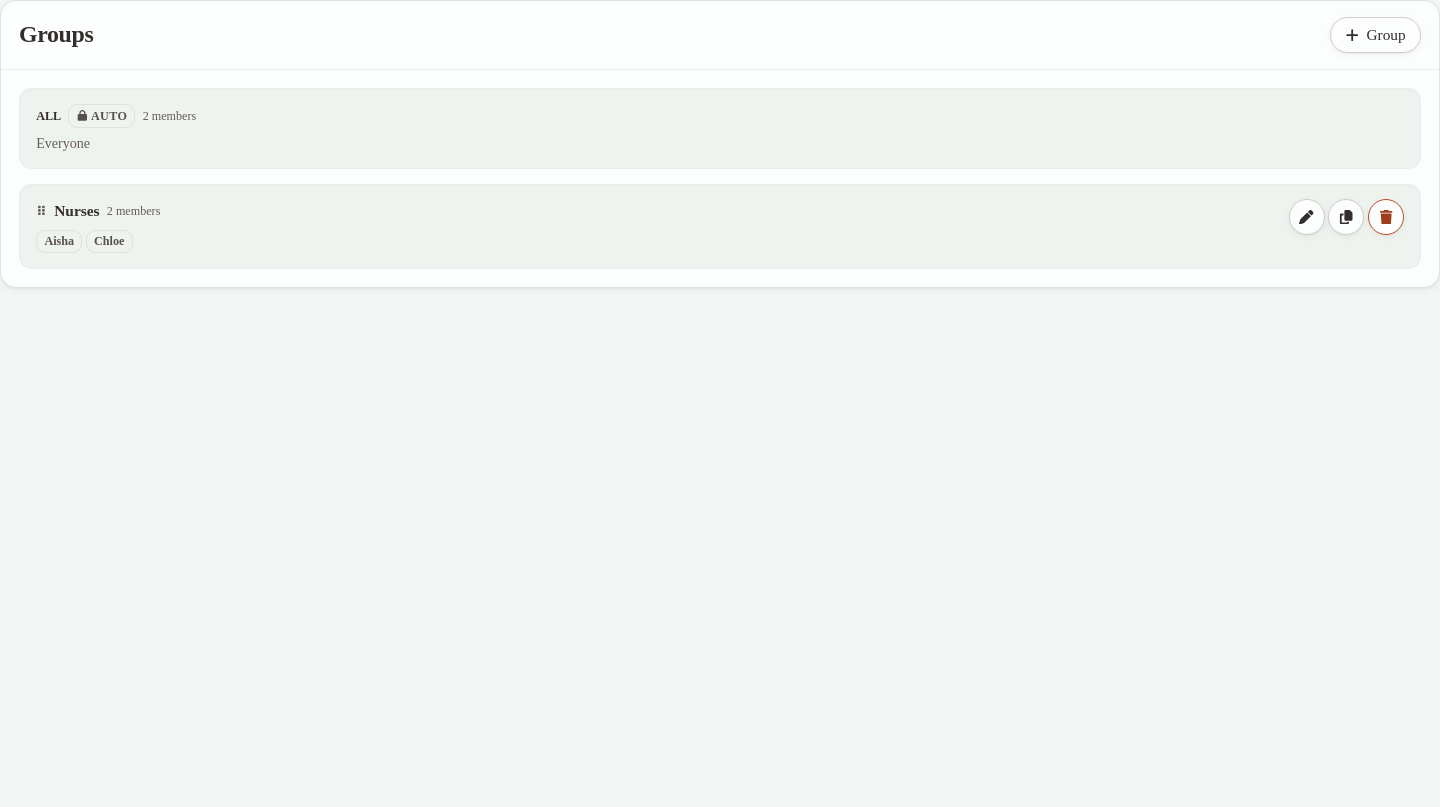
Test case: GroupsSection parameterization — copy + flags › Staff config shows the member search, MEMBERS pane, and 'N members' count
Expected: the text "2 members" next to "Nurses" is shown, [107,204,160,218]
Note: Open add form: search box present, selected pane titled MEMBERS.
Step 1. Click the button with test id "add-group-toggle" → (1375, 35), box [1330,17,1421,53]
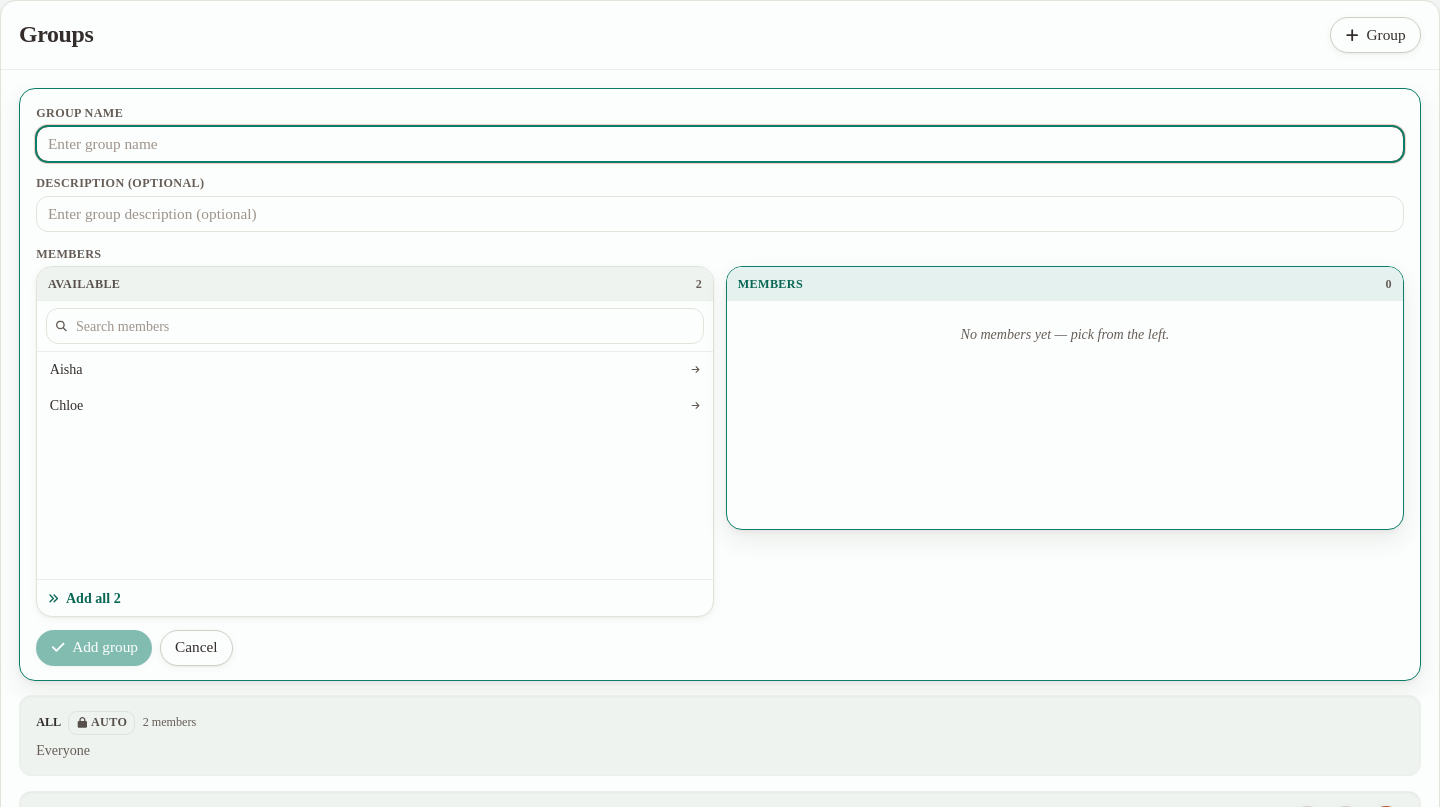
Result: the field with test id "transfer-search-__new__" is shown at [46,308,704,344]
Result: the text "MEMBERS" is shown at [738,275,803,293]
